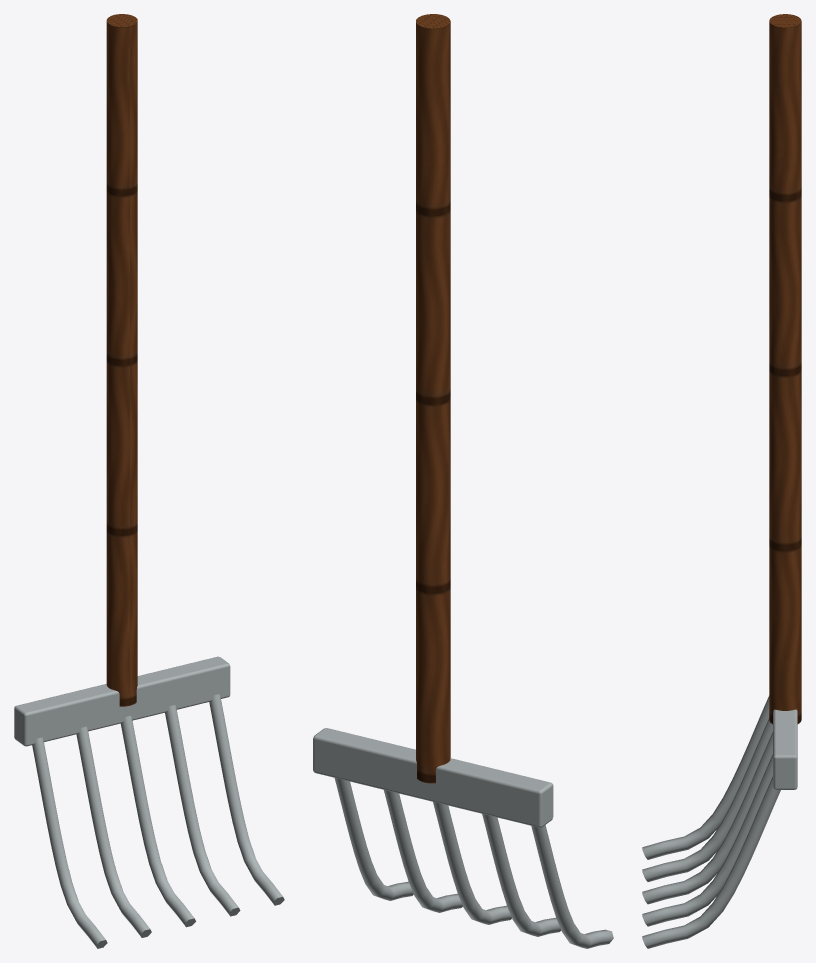
Rendered from survival-greenhouse-and-irrigation-mulch-fork-c1119132__21345.glb.
3 views of the same model, side by side, from view 1: azimuth 30°, elevation 25°; view 2: azimuth 150°, elevation 25°; view 3: azimuth 270°, elevation 25° (orthographic). The views are drawn at different scales.
Parts seen in each view (by area): view 1: mulch-fork; view 2: mulch-fork; view 3: mulch-fork.
Boxes of the visible parts, box(x1,y1,x2,y2) form: mulch-fork: box(14, 14, 284, 948); mulch-fork: box(313, 14, 613, 948); mulch-fork: box(642, 14, 801, 948).
Bounding box in the file's own units: 0.35 × 1.39 × 0.2269.
Materials: 2 (1 with a texture image).
